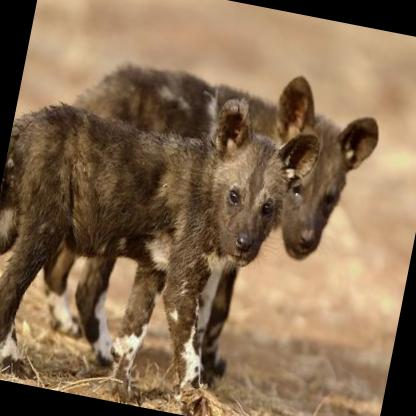African_hunting_dog: (22, 29, 387, 410), (0, 52, 326, 416)
